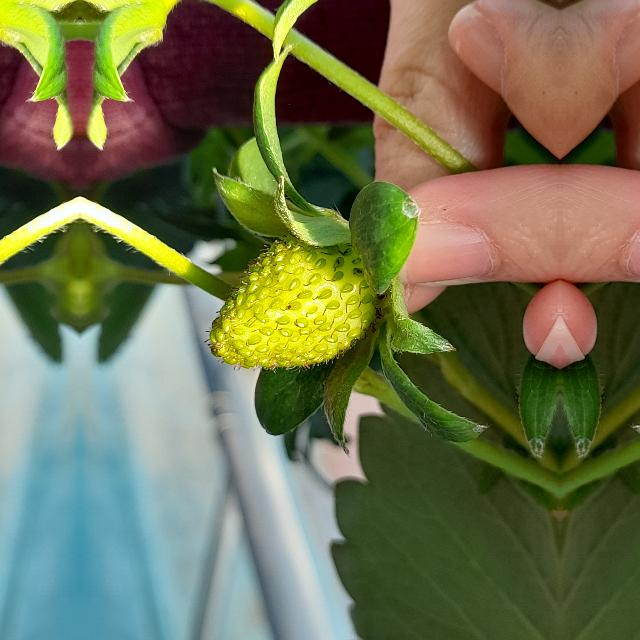Health_25: (204, 232, 378, 372)
